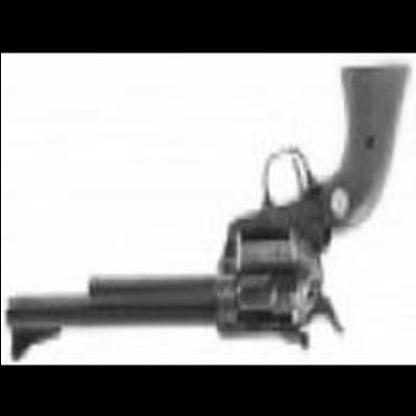weapon: (4, 63, 413, 359)
